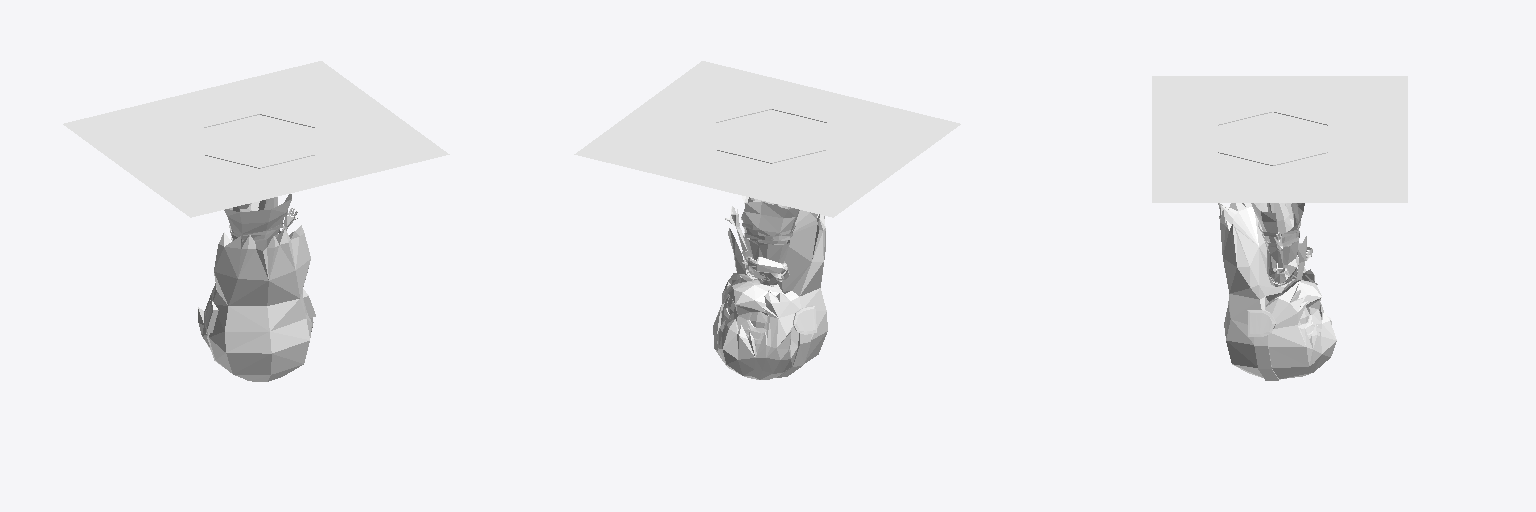
The model's file is LukaFigure.obj.
3 renders of one model, left to right at view 1: azimuth 30°, elevation 25°; view 2: azimuth 150°, elevation 25°; view 3: azimuth 270°, elevation 25°, orthographic.
Bounding box in the file's own units: 412 × 357 × 353.